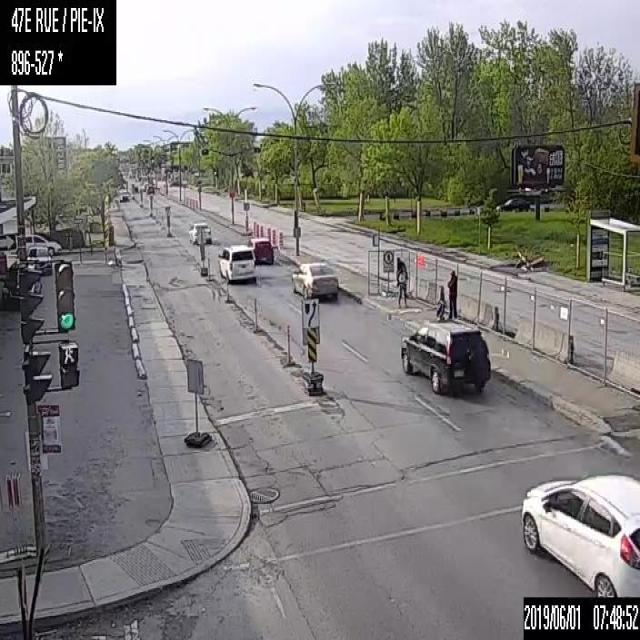construction: (286, 322, 290, 362), (253, 298, 256, 330), (226, 279, 229, 300), (272, 228, 276, 242), (278, 232, 282, 246), (266, 227, 270, 241), (255, 223, 259, 236), (259, 224, 263, 235), (252, 220, 255, 234), (195, 198, 198, 210), (189, 197, 191, 208), (192, 198, 194, 209)
pedestrian: (447, 269, 458, 320), (396, 257, 406, 307), (436, 284, 444, 317)
vehicle: (519, 470, 639, 594), (397, 316, 491, 395), (289, 259, 338, 300), (0, 262, 41, 298), (218, 242, 255, 280), (25, 231, 59, 257), (246, 236, 273, 264), (28, 246, 50, 273), (188, 221, 211, 244), (119, 190, 131, 202), (145, 184, 153, 193)
